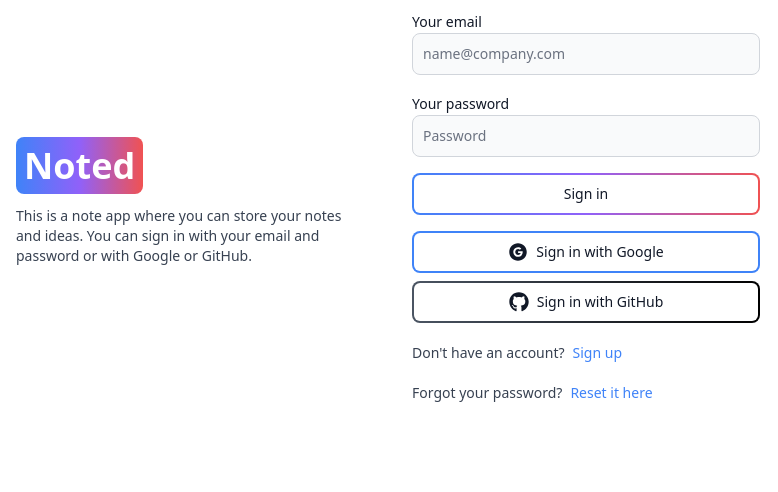
Test case: SignIn Component › Form Submission › handles CLI mode login correctly
Type "test@test.com" into the field with placeholder "name@company.com" at (586, 54), box top-left (412, 33), bottom-right (760, 75)
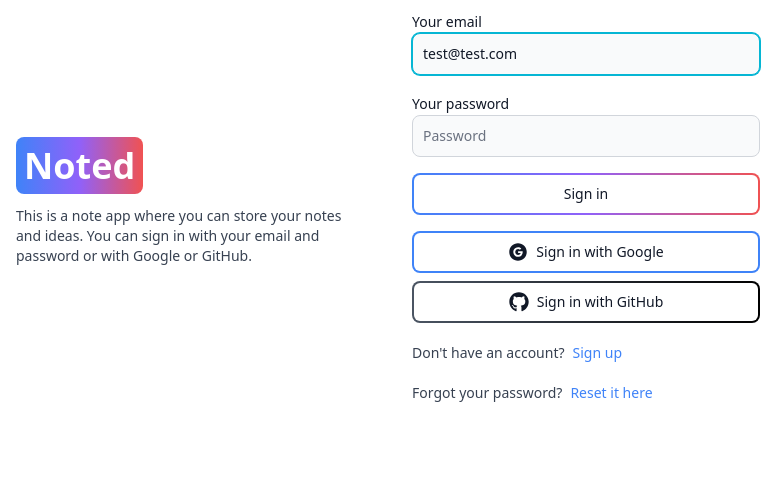
Type "password123" into the password field with placeholder "Password" at (586, 136), box top-left (412, 115), bottom-right (760, 157)
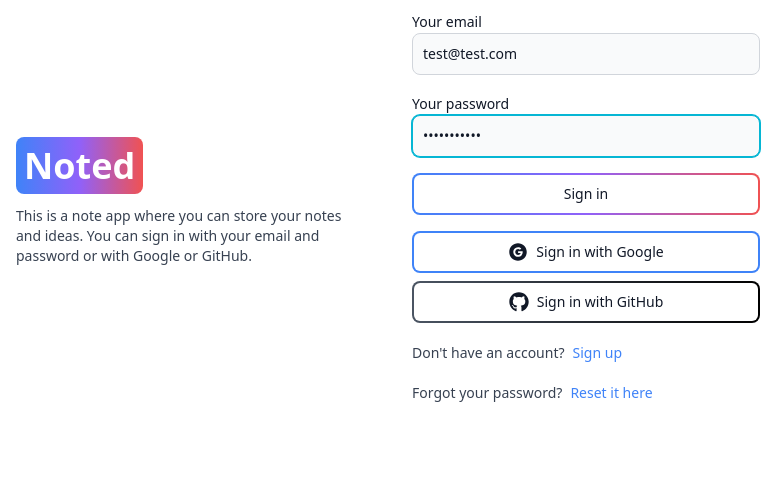
Click the button "Sign in" at (586, 194), box top-left (412, 173), bottom-right (760, 215)
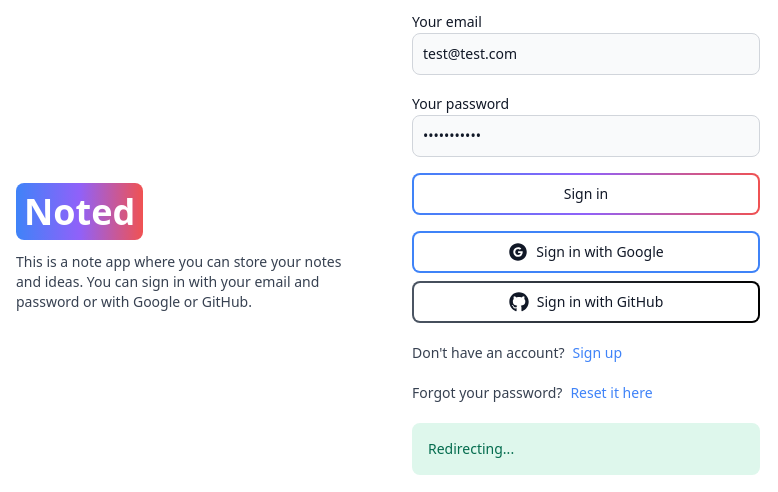
Now the text "Redirecting..." is shown, box top-left (428, 439), bottom-right (514, 459)
